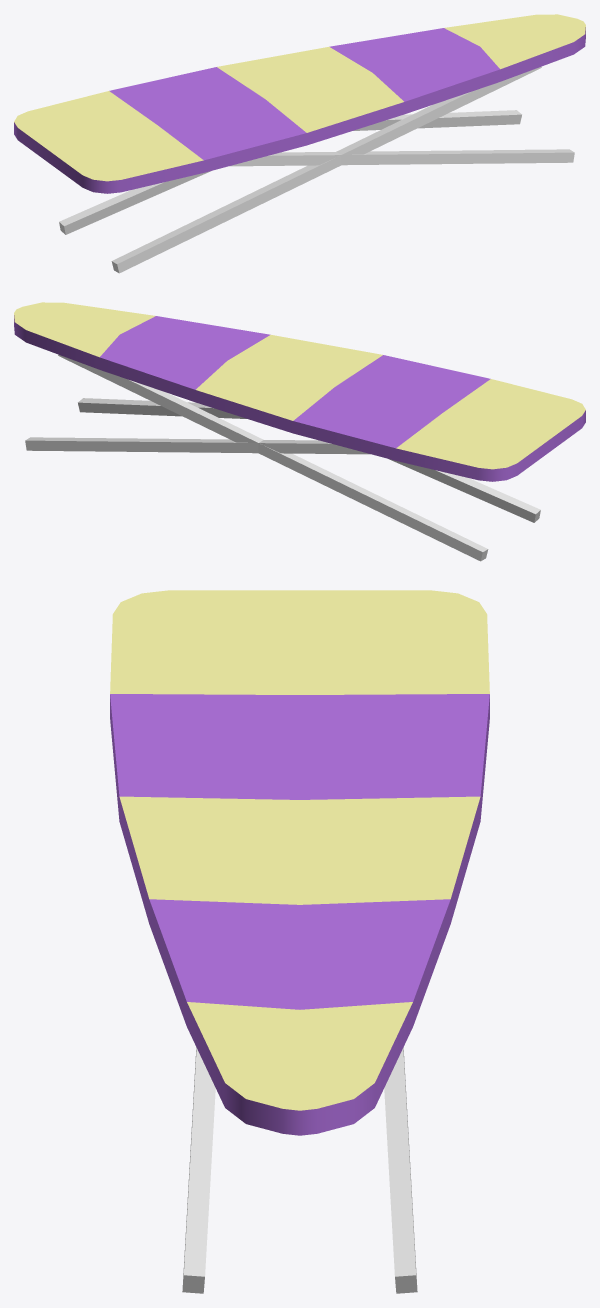
File: 2ironing_board.fbx
3 renders of one model, top to bottom at view 1: azimuth 30°, elevation 25°; view 2: azimuth 150°, elevation 25°; view 3: azimuth 270°, elevation 25°, orthographic. The views are drawn at different scales.
Visible parts, largest first — view 1: 2ironing board; view 2: 2ironing board; view 3: 2ironing board.
Part boxes in pixels (x1,y1,x2,y2): 2ironing board: [14, 14, 585, 273]; 2ironing board: [14, 302, 585, 561]; 2ironing board: [110, 590, 489, 1293].
Size of the model in its own units: 92.68 by 18.4 by 28.58.
